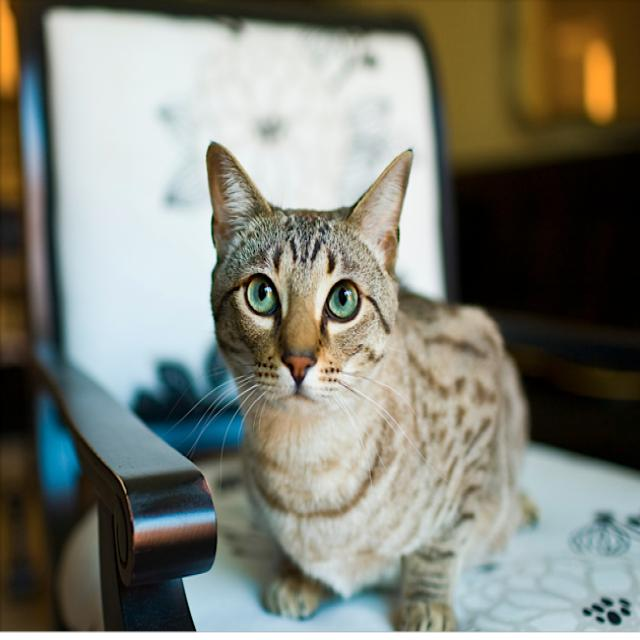Egyptian Mau: (204, 138, 539, 630)
